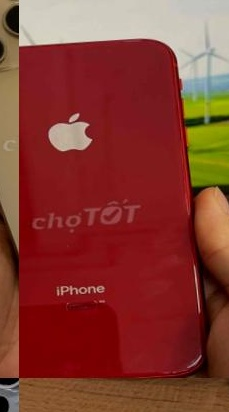scratch: (158, 359, 195, 378)
